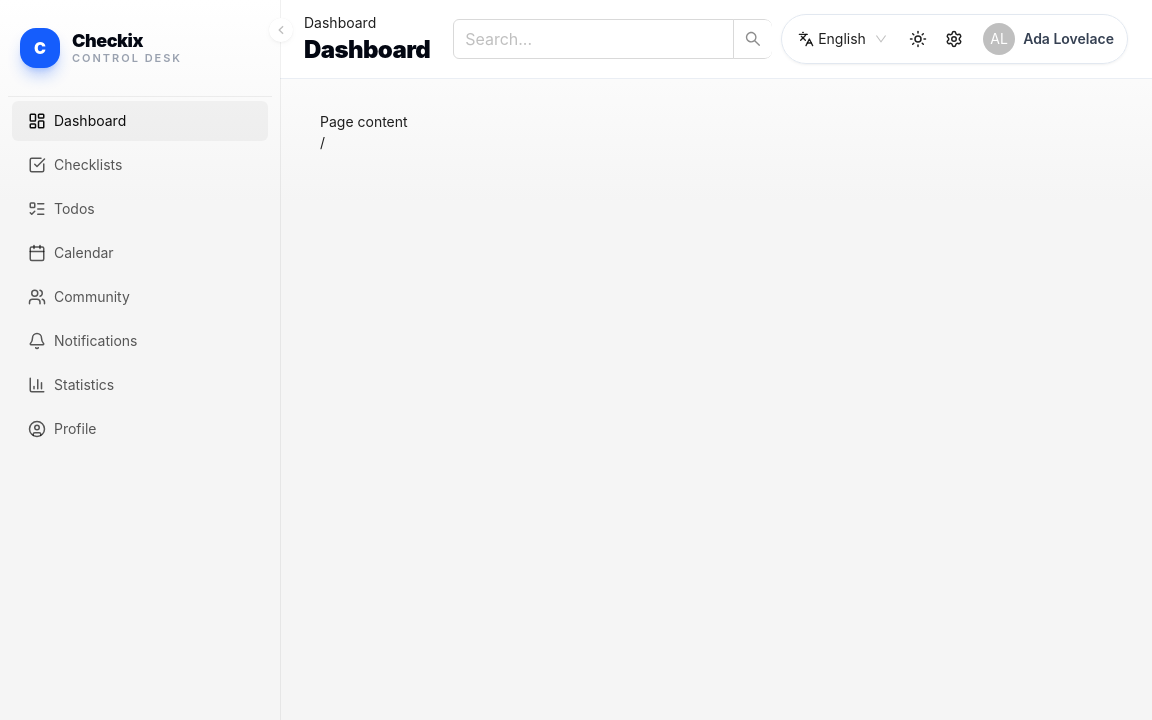
Layout › navigates to profile from the user menu
This screenshot has width=1152, height=720.
Click the button with aria-label "user menu" at (1049, 39), box [974,19,1123,59]
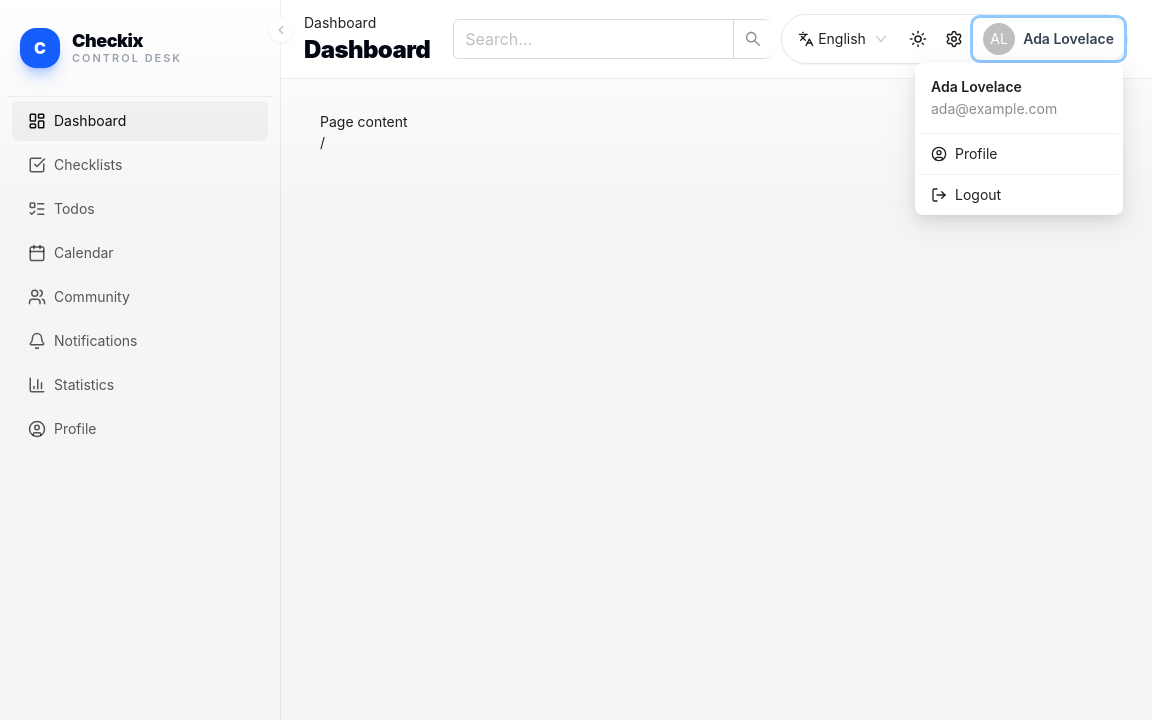
Click the menu item "Profile" below "ada@example.com" at (964, 154), box [931,145,998,162]
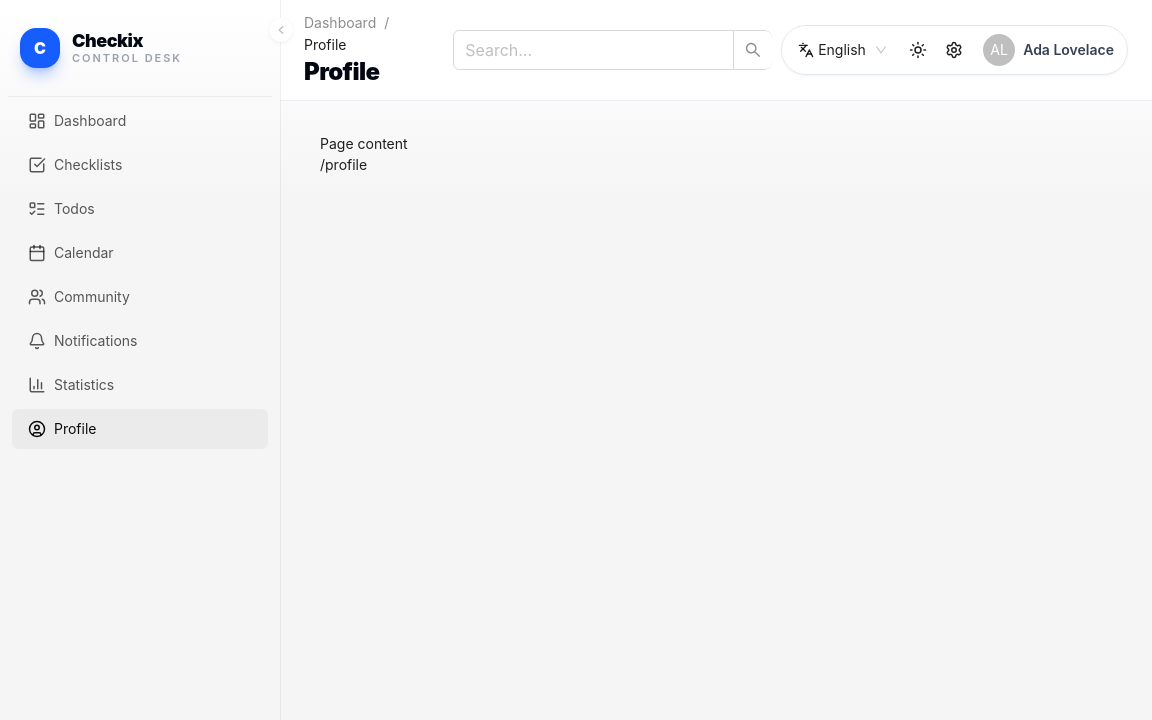
Result: the text with test id "location" reads "/profile" at [320,156,367,173]
